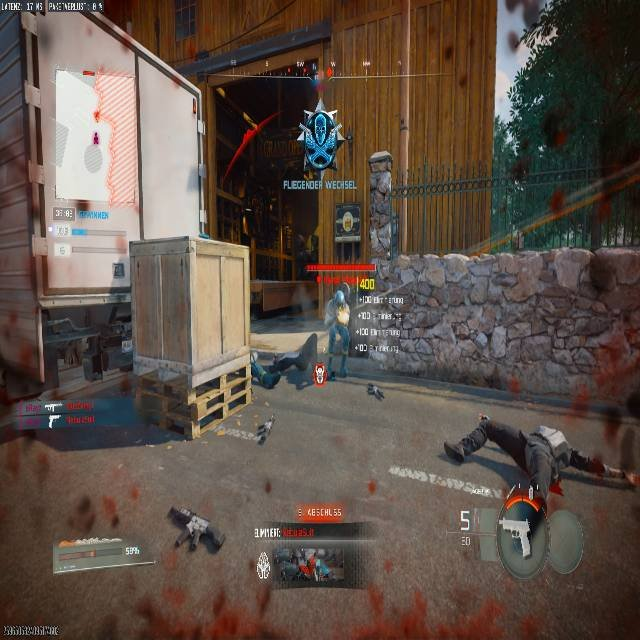head: (334, 289, 345, 304)
player: (324, 289, 350, 374)
